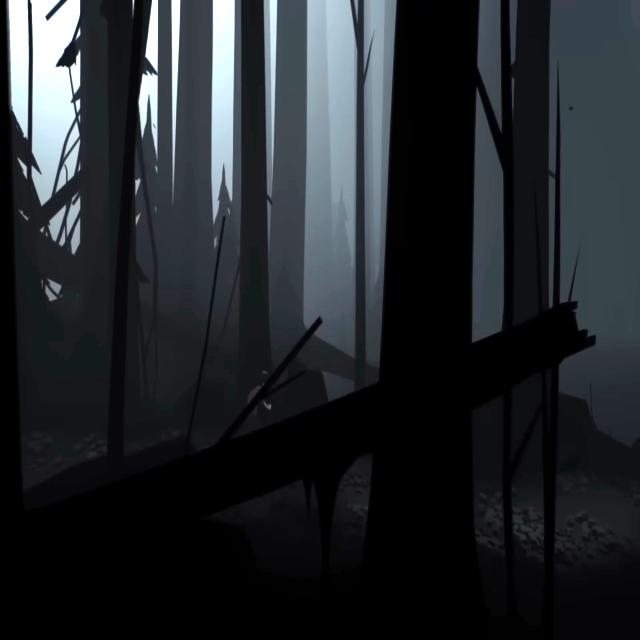boy: (248, 371, 271, 415)
